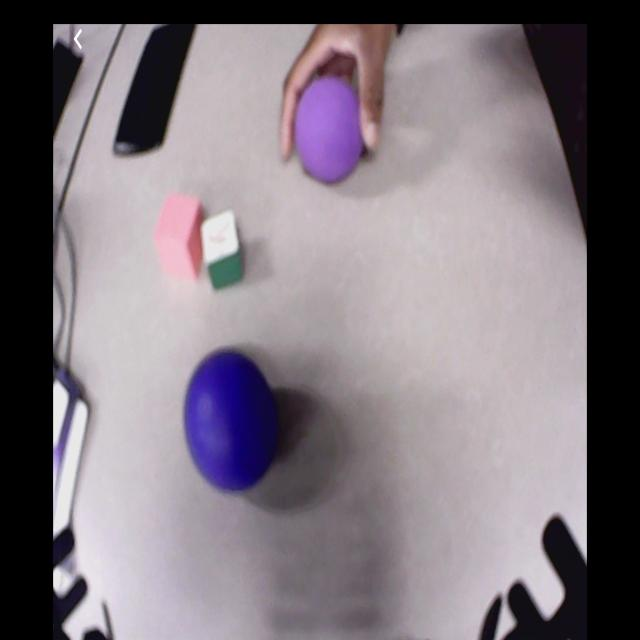ball: (187, 349, 275, 491), (296, 77, 363, 182)
